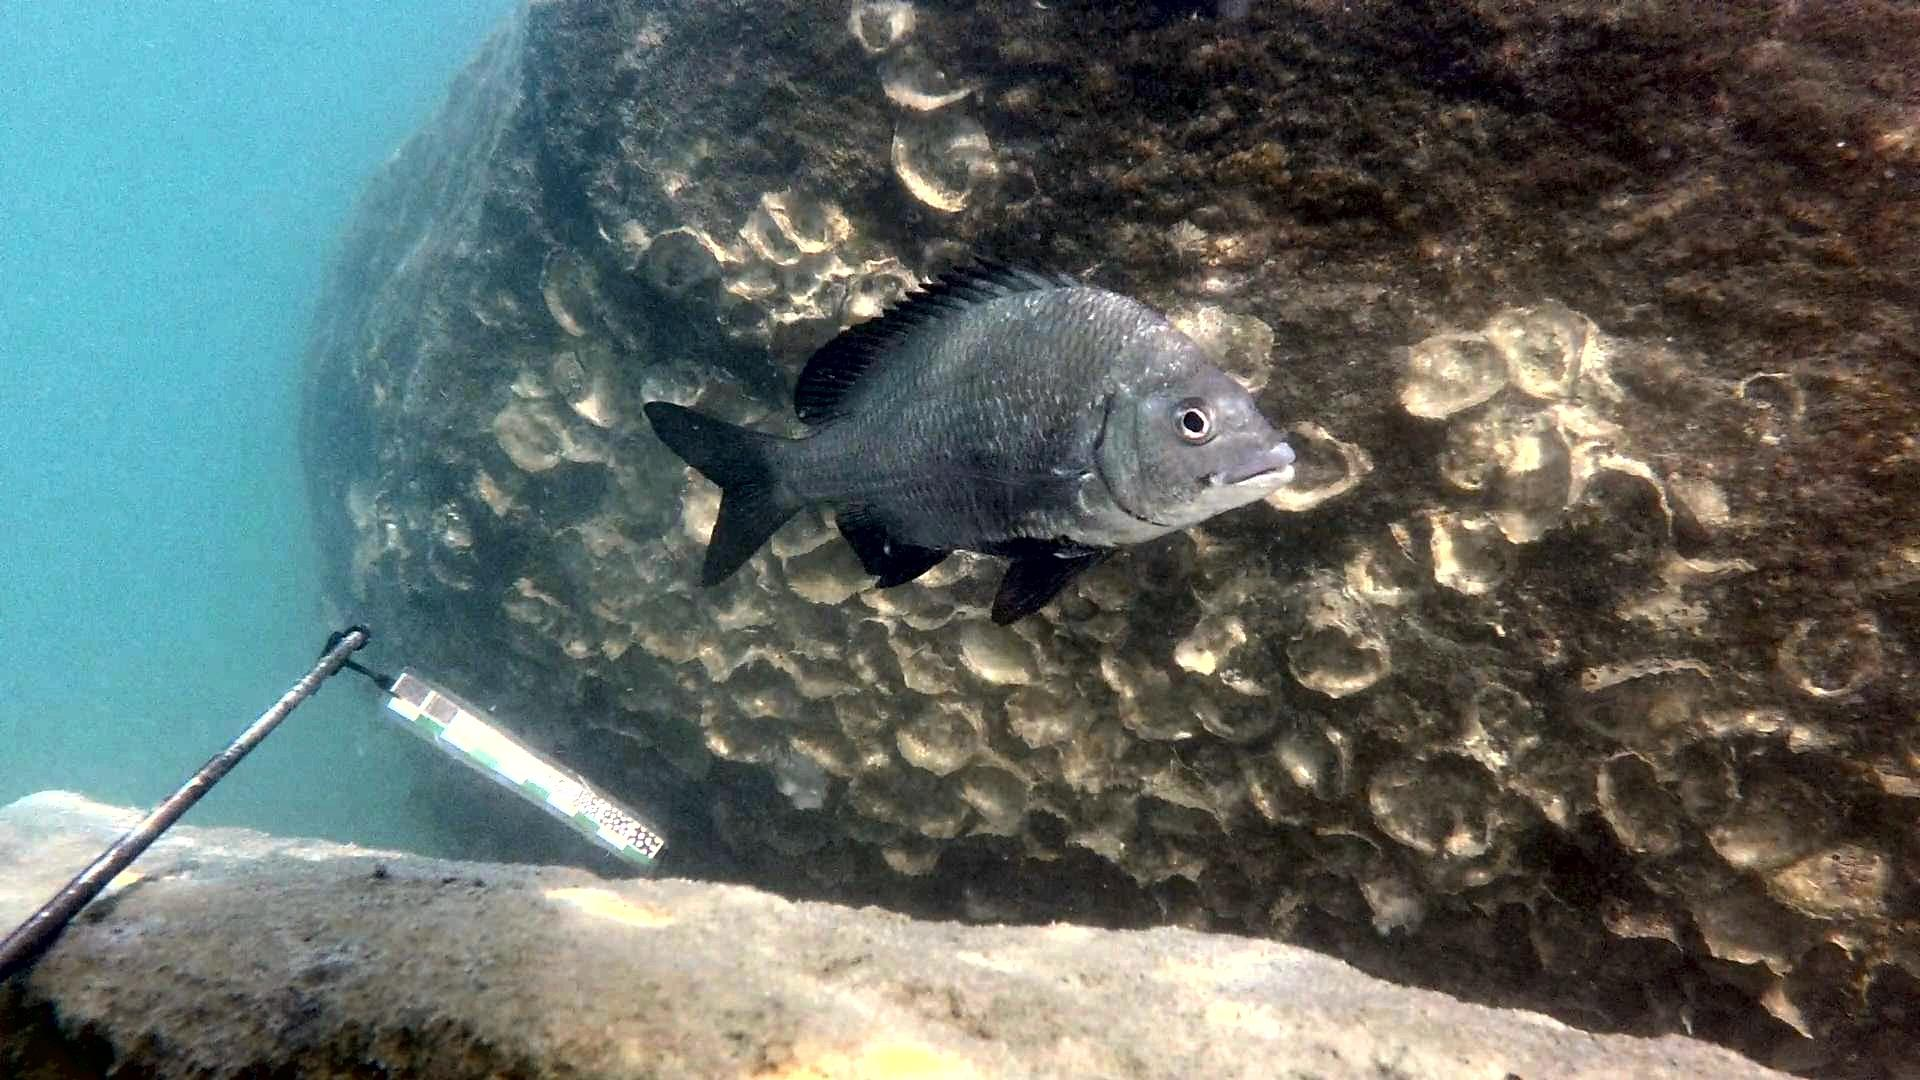acanthopagrus palmaris: (633, 248, 1303, 629)
